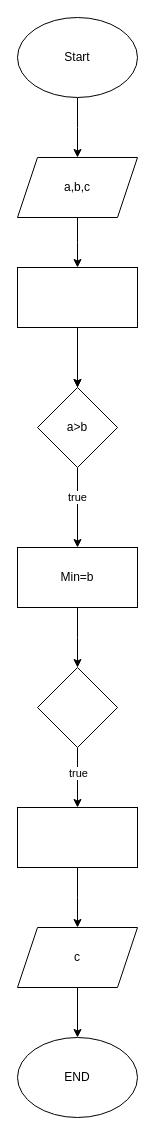
This 155x1135 diagram has some shape labels left out. The shapes that lost their labels are listed below. From the top down, each one's centre as x and y in pixels, then its label:
At (77,297): "Min=a".
At (77,707): "b>c".
At (77,837): "Min=c".
